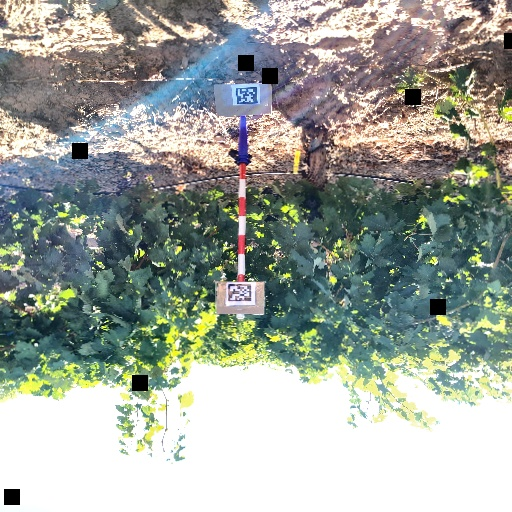QR: (227, 283, 252, 302), (233, 86, 258, 104)
